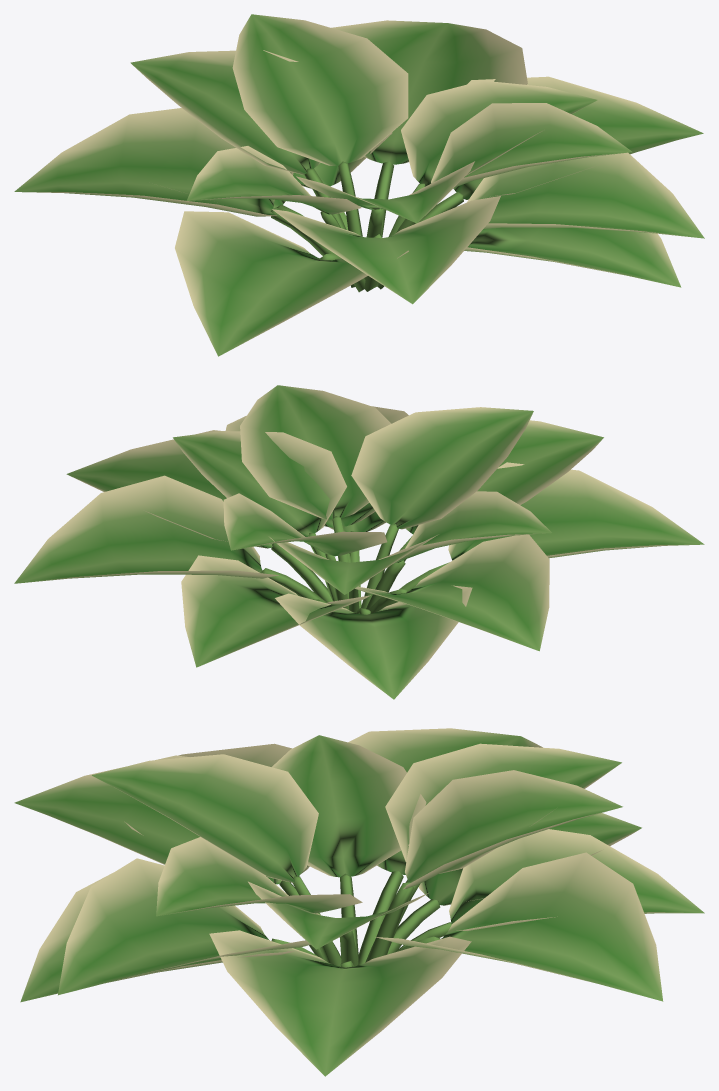
File: plant_hosta_b.glb
3 views of the same model, one above another, from view 1: azimuth 30°, elevation 25°; view 2: azimuth 150°, elevation 25°; view 3: azimuth 270°, elevation 25° (orthographic). The views are drawn at different scales.
Visible parts, largest first — view 1: plant_hosta_b; view 2: plant_hosta_b; view 3: plant_hosta_b.
Boxes of the visible parts, <box> form: plant_hosta_b: <box>14,14,704,356</box>; plant_hosta_b: <box>14,385,704,699</box>; plant_hosta_b: <box>14,728,704,1076</box>.
Size of the model in its own units: 1.07 by 0.3085 by 0.987.
